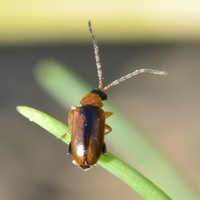insect: (68, 21, 166, 168)
